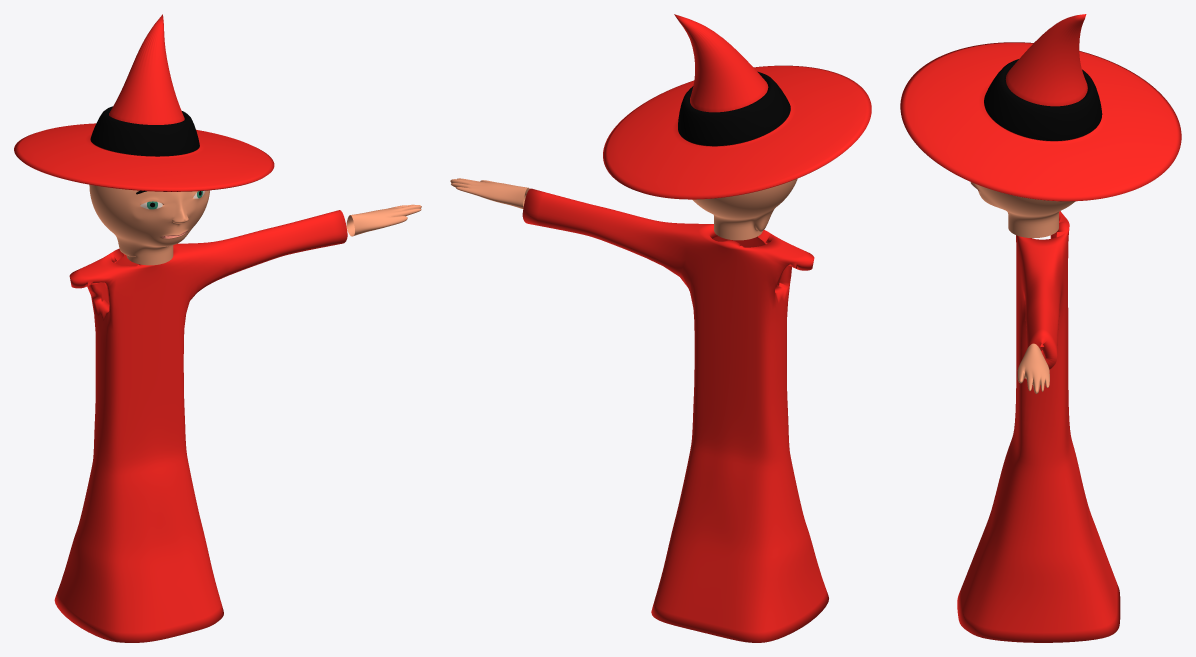
Rendered from newPlayer.obj.
3 views of the same model, side by side, from view 1: azimuth 30°, elevation 25°; view 2: azimuth 150°, elevation 25°; view 3: azimuth 270°, elevation 25° (orthographic). The views are drawn at different scales.
Visible parts, largest first — view 1: Sphere.004_Sphere.007, Circle.003_Circle.006, Sphere.005_Sphere.008; view 2: Sphere.004_Sphere.007, Circle.003_Circle.006, Sphere.005_Sphere.008; view 3: Circle.003_Circle.006, Sphere.004_Sphere.007, Sphere.005_Sphere.008.
Part boxes in pixels (x1,y1,x2,y2): Sphere.004_Sphere.007: [54, 210, 347, 642]; Circle.003_Circle.006: [14, 14, 274, 191]; Sphere.005_Sphere.008: [89, 184, 421, 265]; Sphere.004_Sphere.007: [522, 188, 828, 642]; Circle.003_Circle.006: [603, 14, 871, 199]; Sphere.005_Sphere.008: [450, 178, 797, 240]; Circle.003_Circle.006: [900, 14, 1181, 201]; Sphere.004_Sphere.007: [957, 211, 1120, 642]; Sphere.005_Sphere.008: [970, 182, 1075, 393].
Bounding box in the file's own units: 14.33 × 20.17 × 8.29.
